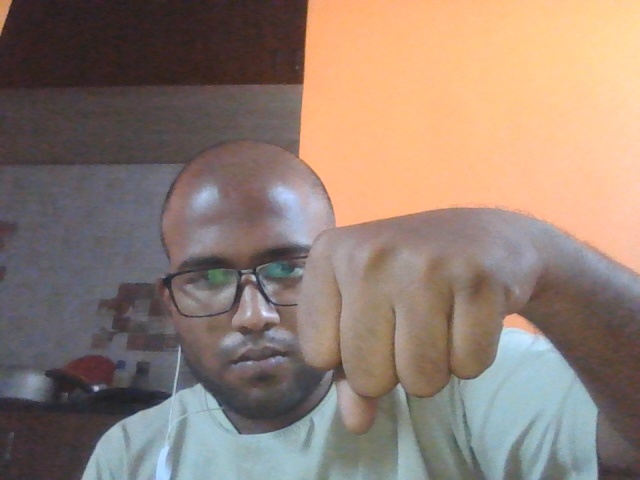yes: (275, 152, 583, 448)
